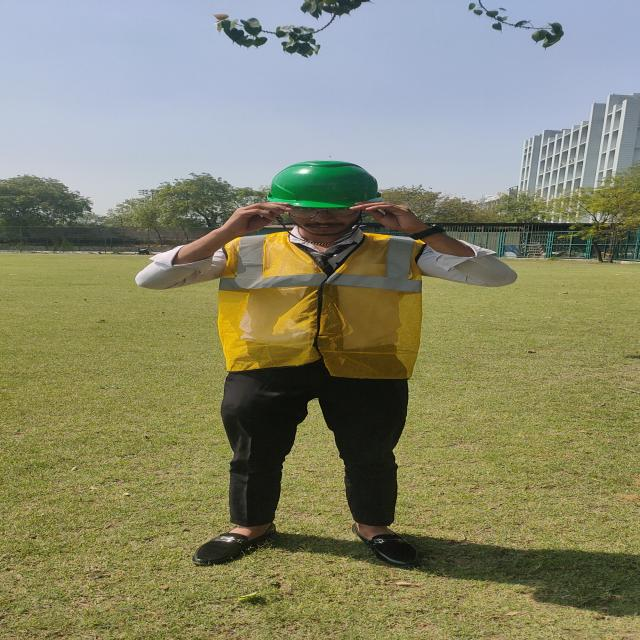safe: (135, 161, 514, 566)
